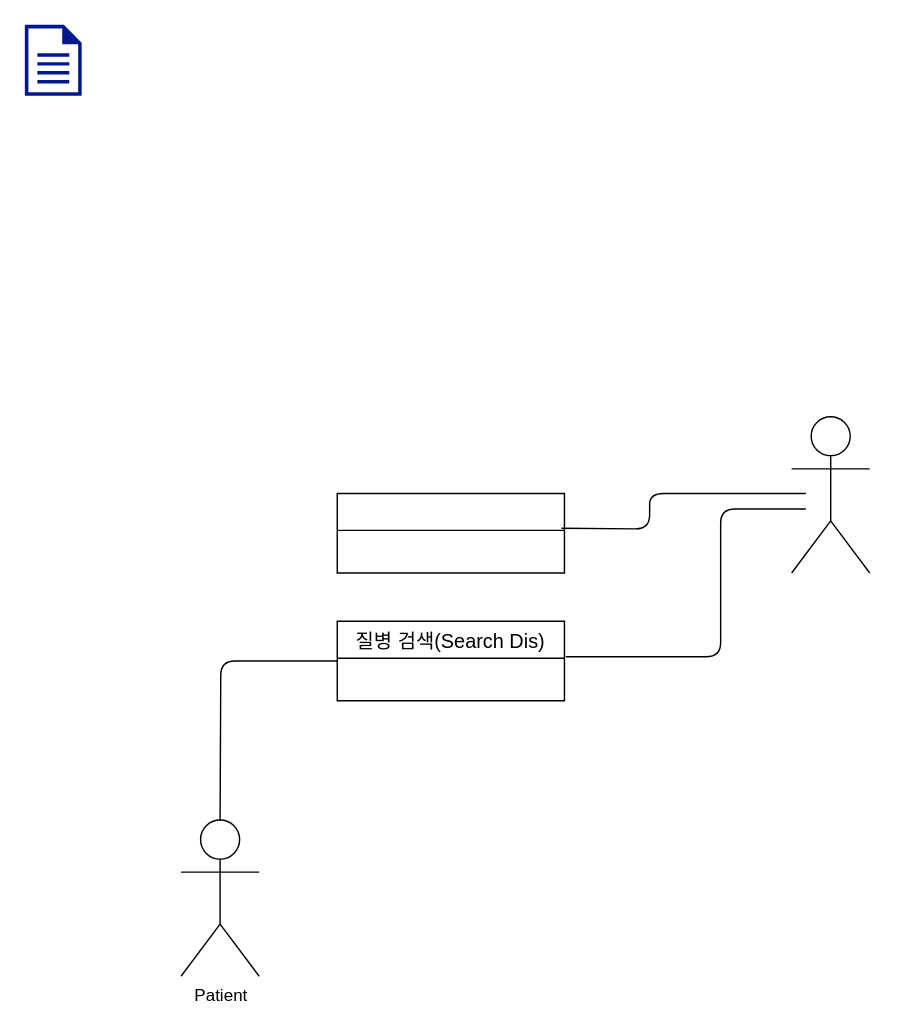
This 913x1030 diagram has some shape labels left out. The shapes that lost their labels are listed below. From the top down, each one's centre as x and y in pixels, then its label:
At [830,494]: "Search System".
At [450,532]: "의사 검색(Search Doc)".
